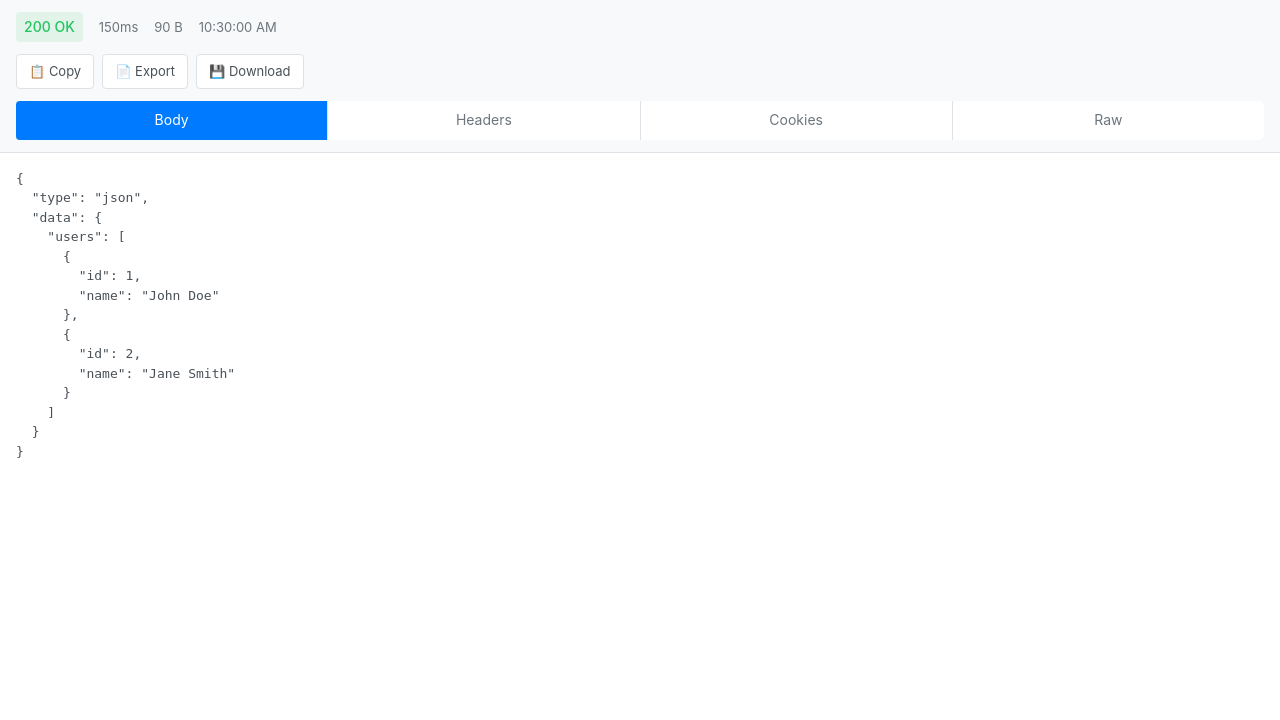
Scenario: ResponseView › should display formatted HTTP request in raw tab
The width and height of the screenshot is (1280, 720).
Click the button "Raw" at (1108,120), box [953,101,1264,140]
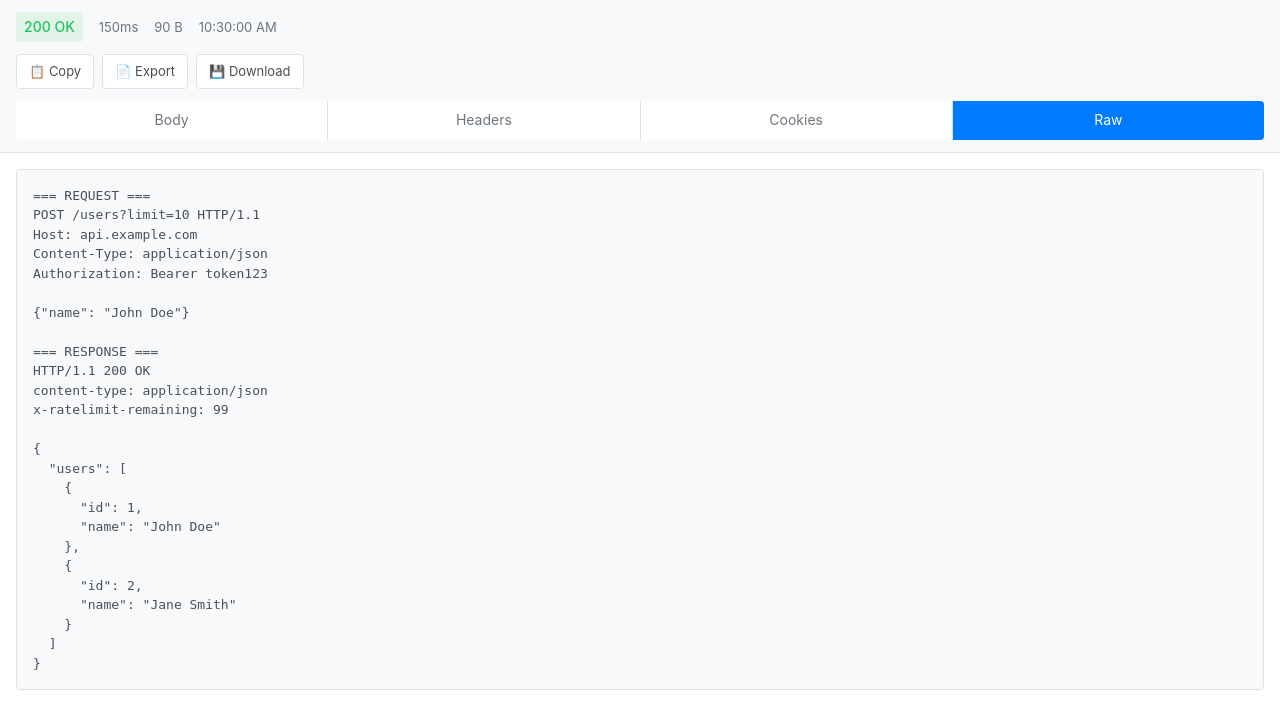
Now the text "\"name\": \"John Doe\"" is shown, box [33,188,268,671]
